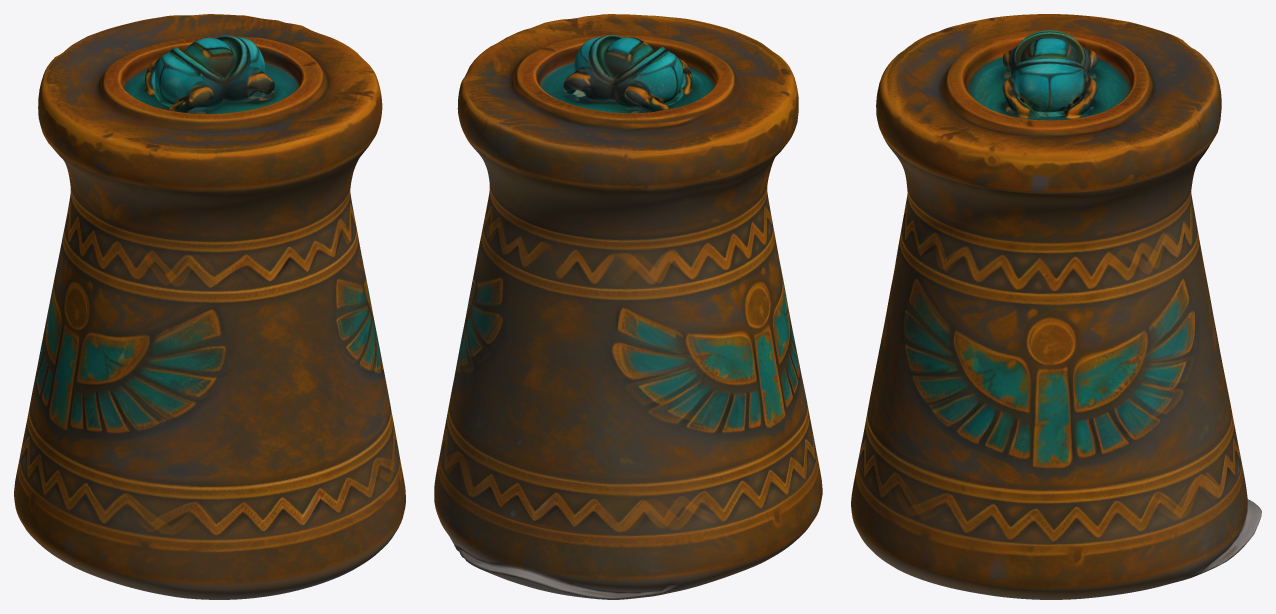
Rendered from Item2.fbx.
3 views of the same model, side by side, from view 1: azimuth 30°, elevation 25°; view 2: azimuth 150°, elevation 25°; view 3: azimuth 270°, elevation 25° (orthographic).
Visible parts, largest first — view 1: tripo_node_776a8606; view 2: tripo_node_776a8606; view 3: tripo_node_776a8606.
Boxes of the visible parts, x1=… form: tripo_node_776a8606: x1=14, y1=14, x2=405, y2=599; tripo_node_776a8606: x1=434, y1=14, x2=822, y2=599; tripo_node_776a8606: x1=851, y1=14, x2=1261, y2=599.
Size of the model in its own units: 68.82 by 99.96 by 71.83.
Materials: 1 (1 with a texture image).
